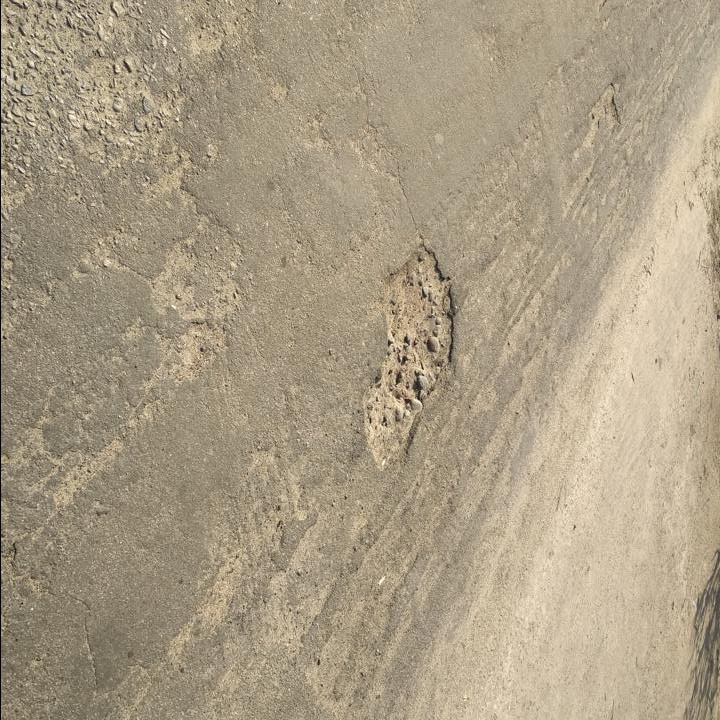pothole: (362, 241, 459, 475), (581, 78, 626, 146)
